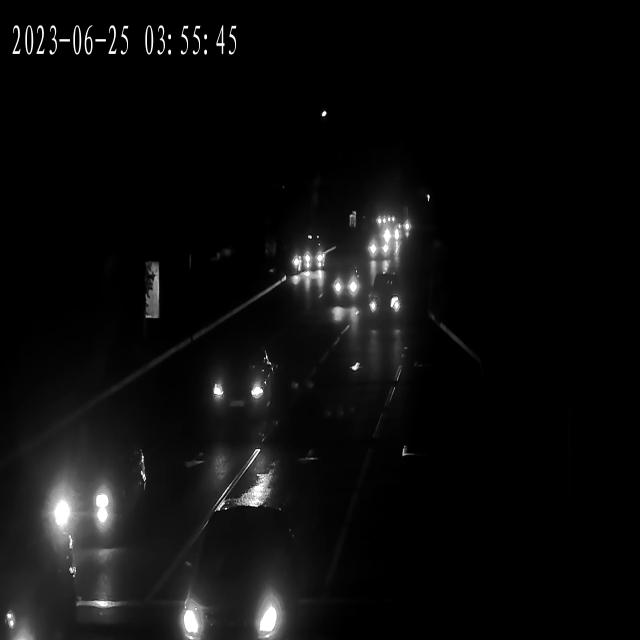Car: (177, 510, 302, 640), (17, 429, 143, 551), (3, 536, 73, 640), (199, 347, 275, 425), (368, 284, 402, 322), (331, 270, 365, 304), (366, 238, 393, 262), (300, 263, 324, 280), (377, 222, 398, 240), (381, 228, 402, 244), (305, 252, 326, 268), (381, 226, 402, 242), (303, 262, 325, 277), (304, 257, 323, 273), (397, 218, 415, 233), (290, 252, 308, 266), (395, 218, 412, 232), (379, 213, 395, 225), (374, 215, 389, 227), (577, 478, 578, 479)
